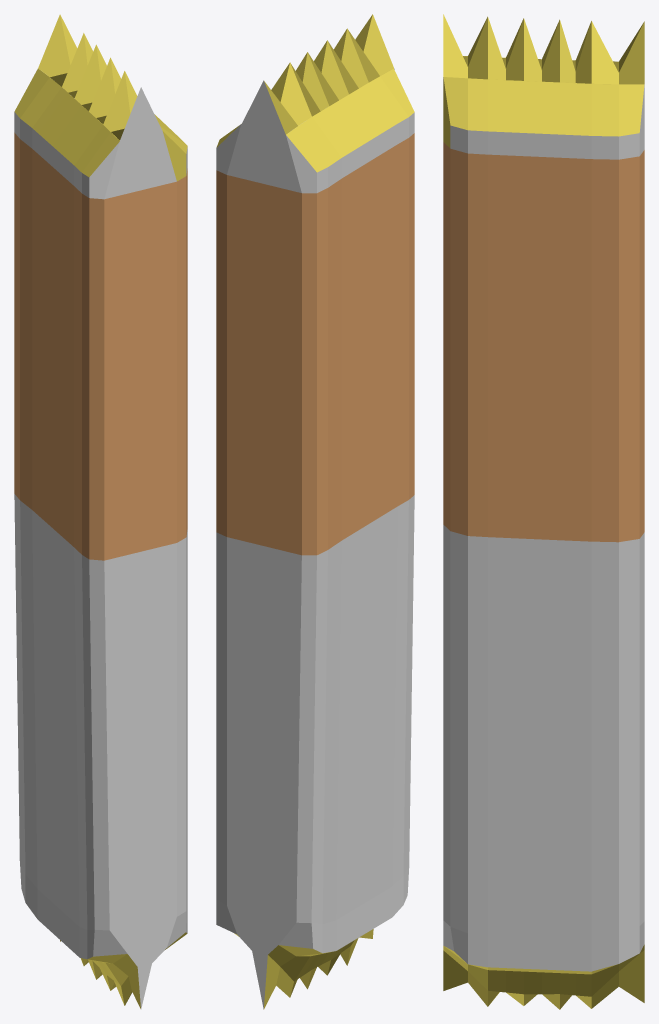
File: CatSnack.fbx
The picture shows the model from 3 angles, left to right: view 1: azimuth 30°, elevation 25°; view 2: azimuth 150°, elevation 25°; view 3: azimuth 270°, elevation 25°; orthographic projection. The views are drawn at different scales.
Parts seen in each view (by area): view 1: Cube; view 2: Cube; view 3: Cube.
Boxes of the visible parts, x1,y1,x2,y2 form: Cube: (14,14,187,1009); Cube: (216,14,414,1009); Cube: (443,14,644,1009).
Bounding box in the file's own units: 46.26 × 352 × 64.71.
